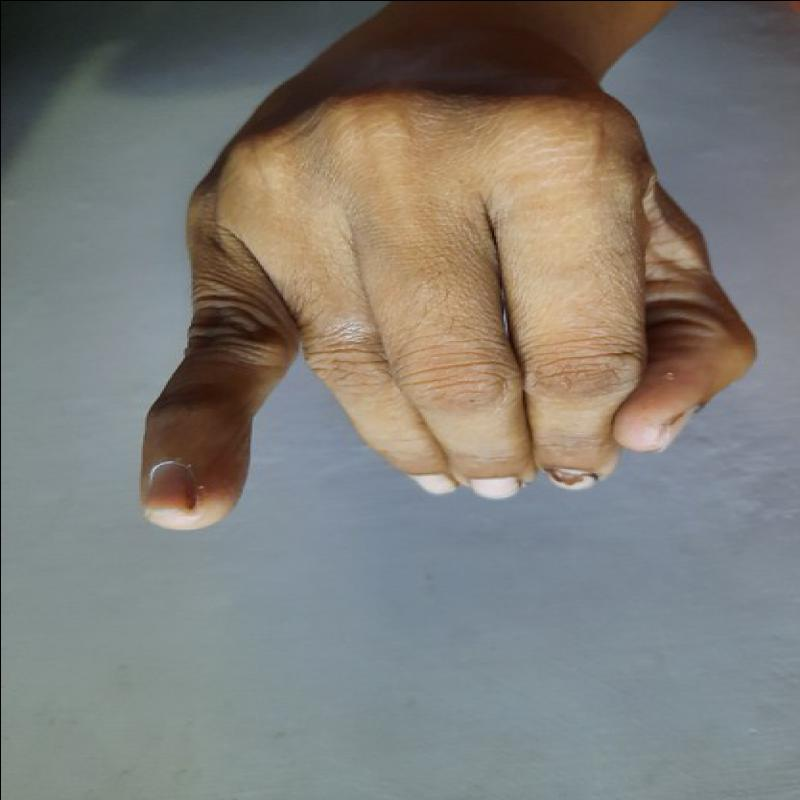Kartharee Mukham: (120, 31, 763, 547)
